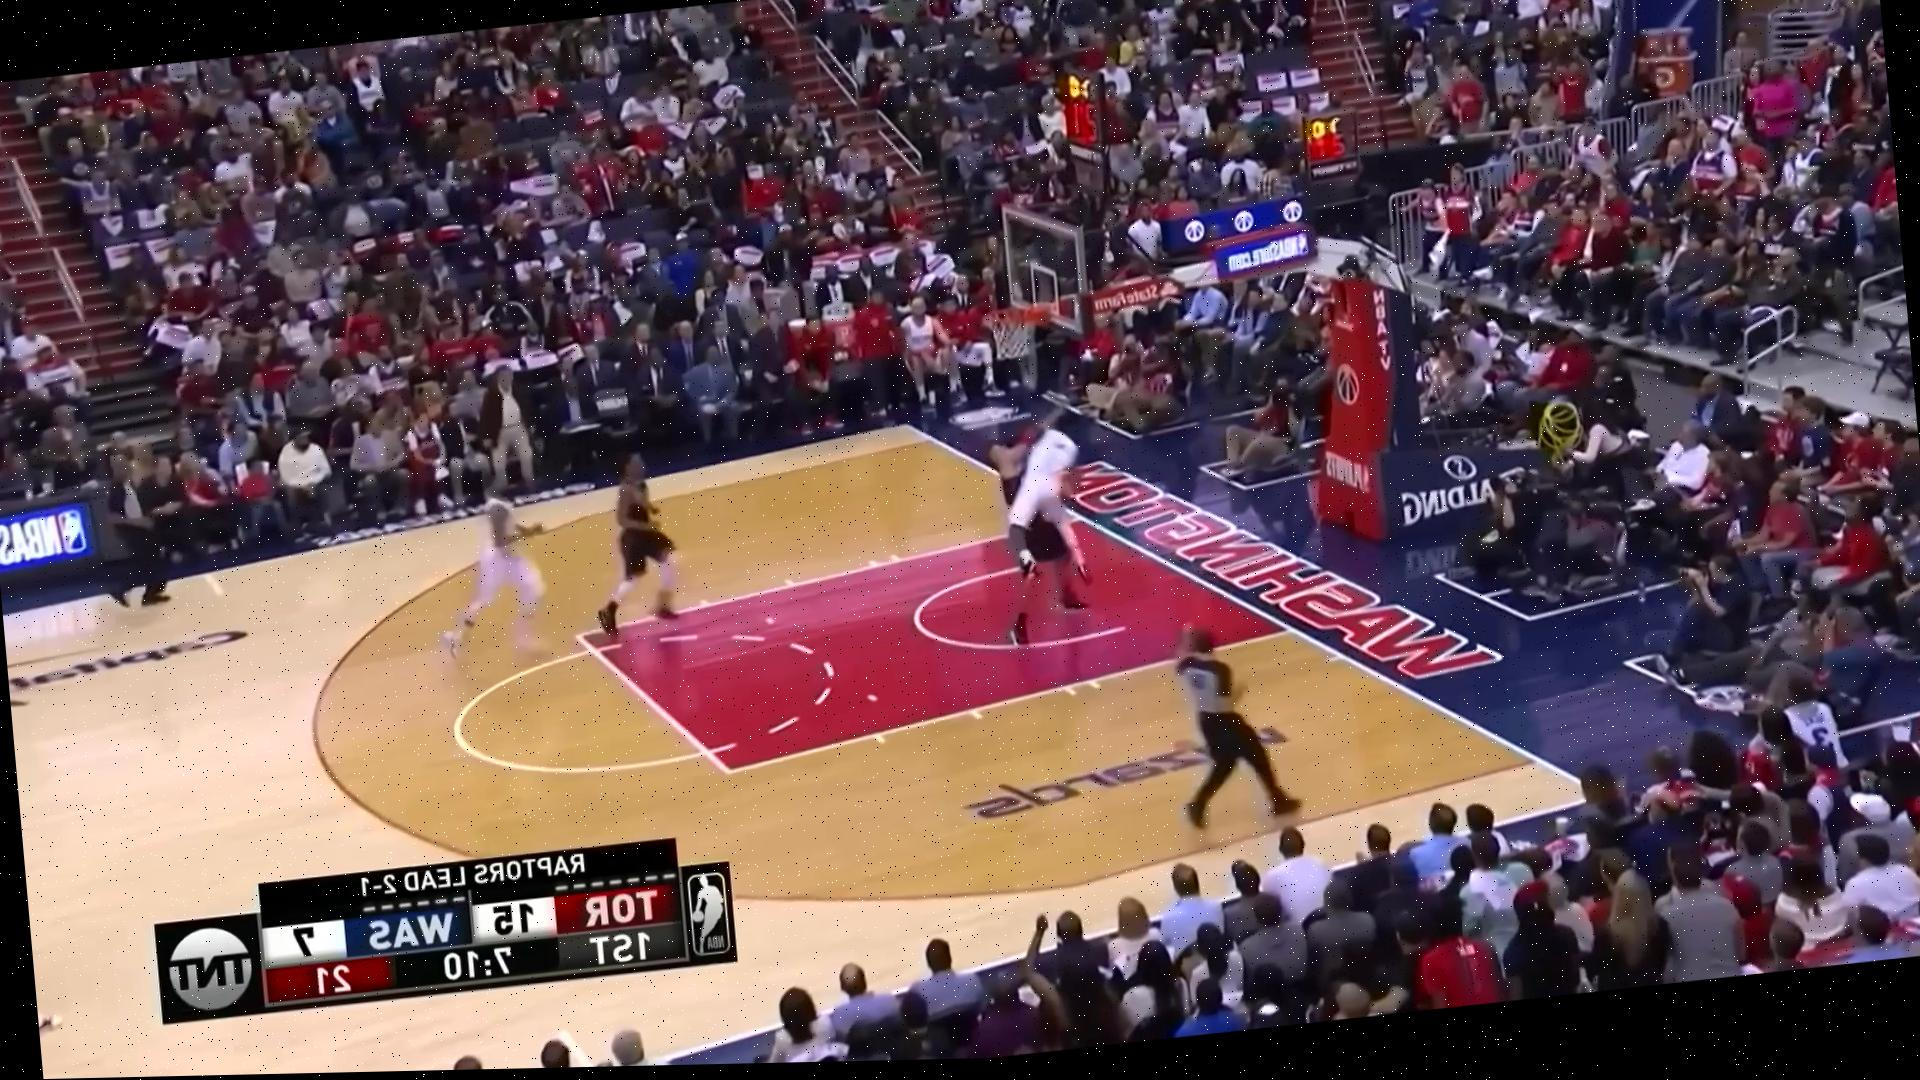foul: (957, 361, 1133, 654)
